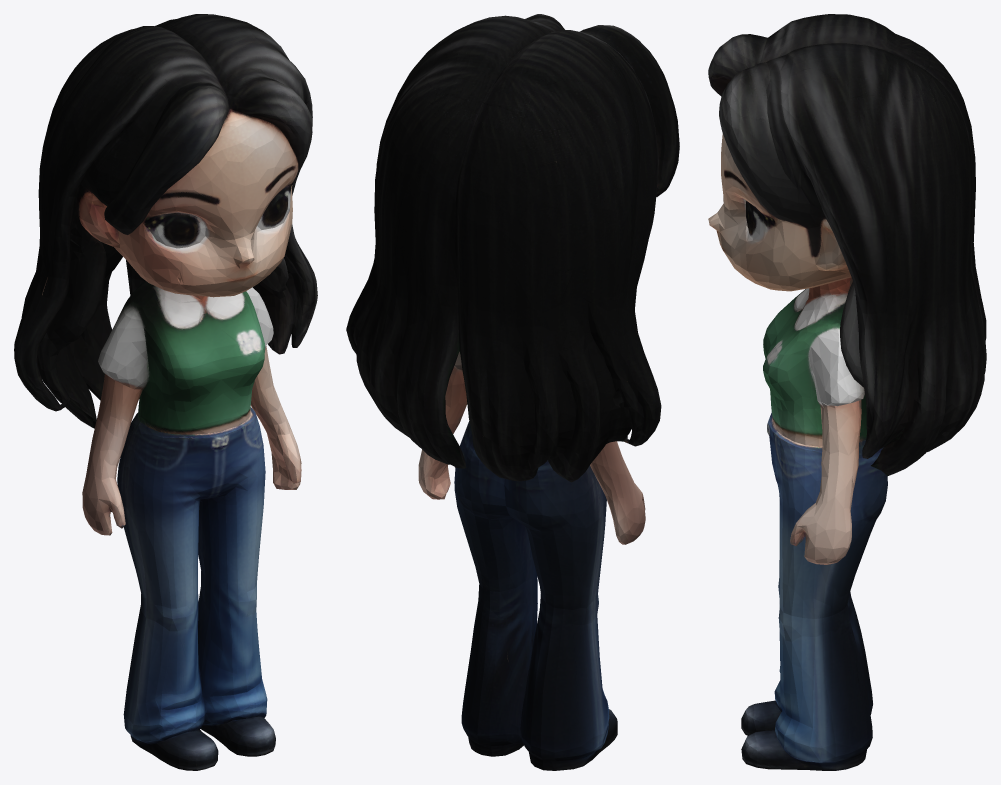
The model's file is avatara.glb.
3 views of the same model, side by side, from view 1: azimuth 30°, elevation 25°; view 2: azimuth 150°, elevation 25°; view 3: azimuth 270°, elevation 25° (orthographic). The views are drawn at different scales.
Parts seen in each view (by area): view 1: world; view 2: world; view 3: world.
Part boxes in pixels (bbox=[...]): world: bbox=[14, 14, 317, 770]; world: bbox=[346, 14, 679, 770]; world: bbox=[708, 14, 986, 770].
Bounding box in the file's own units: 0.4537 × 1 × 0.3567.
Materials: 1 (1 with a texture image).
